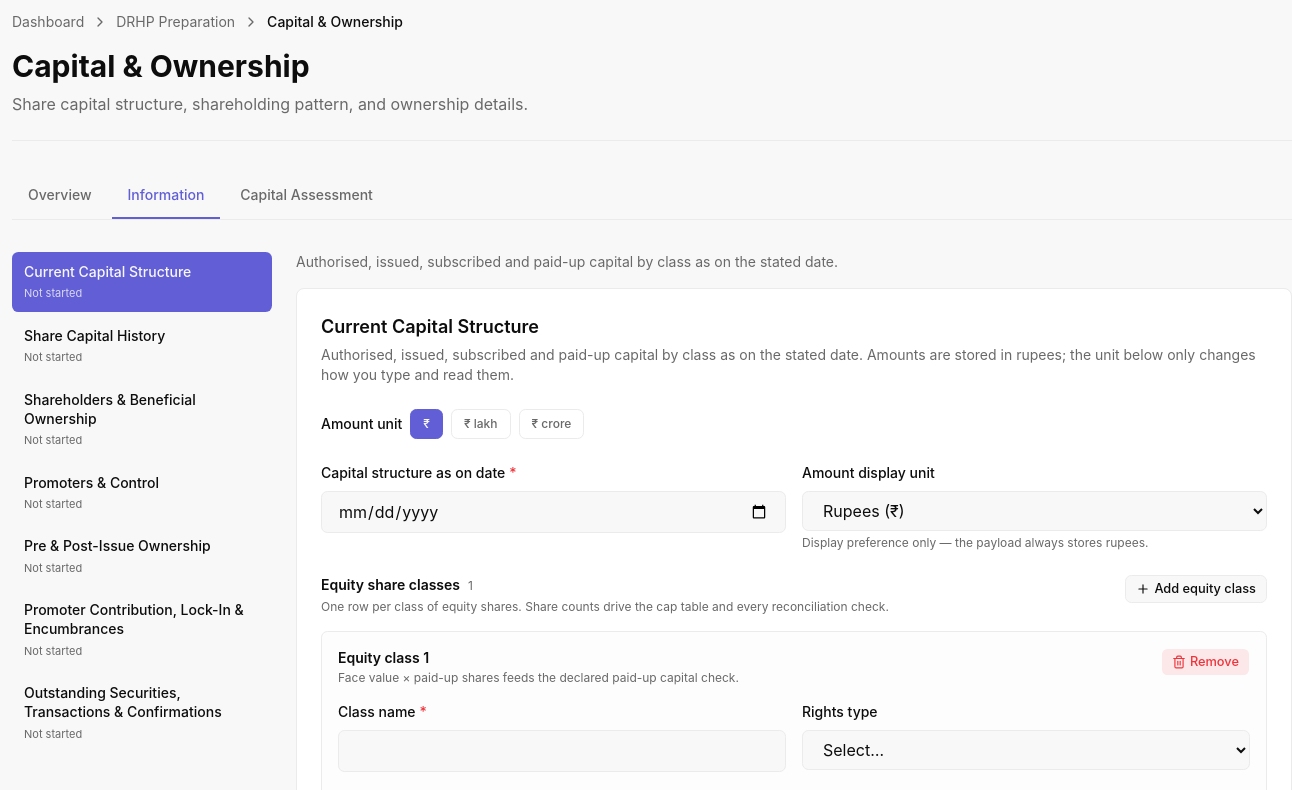
Test case: Capital & Ownership workstream UI (C2 persistence) › shows pending linked workstream for IPO when reference unavailable
Expected: the navigation bar named "information sections" is shown, [12,252,272,752]
Click the button "Pre & Post-Issue Ownership Not started" at (142, 556), box [12,526,272,586]
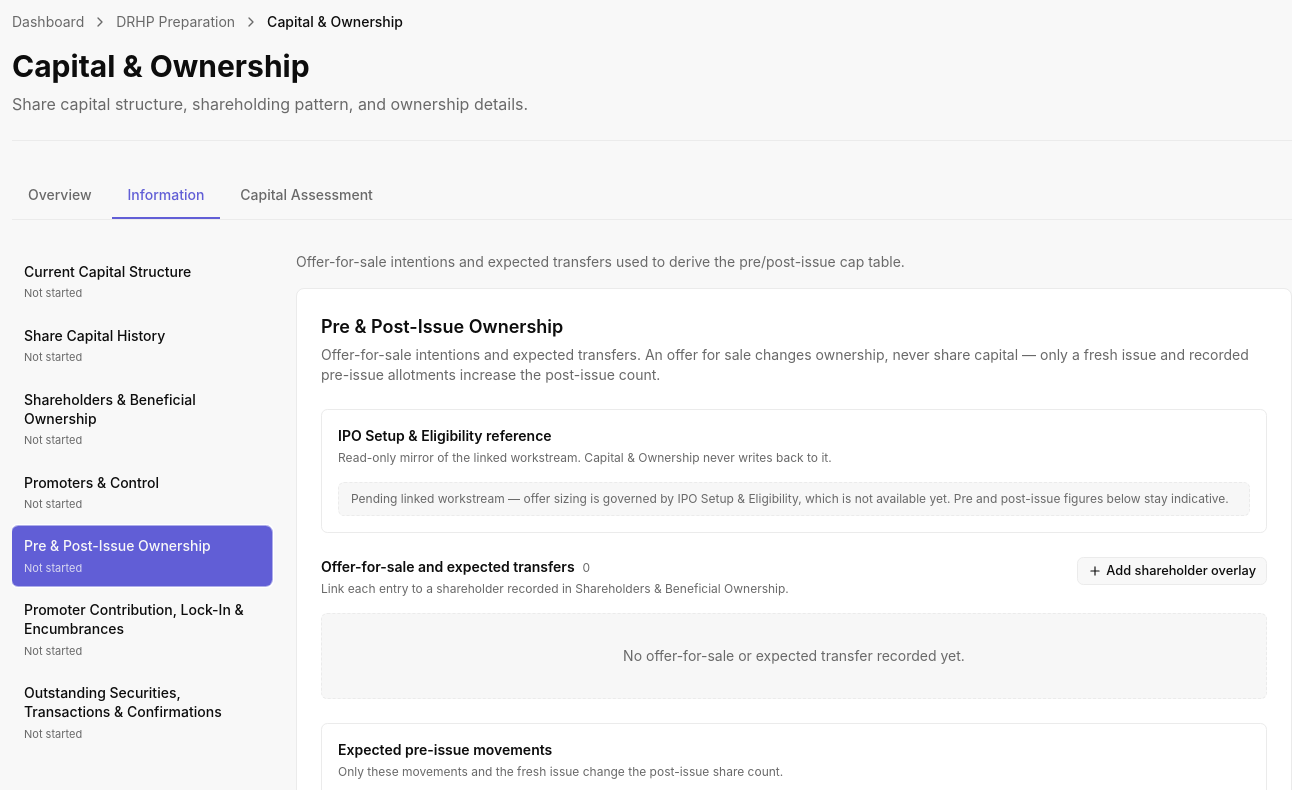
Now the text "Pending linked workstream — offer sizing is governed by IPO Setup" is shown, box [351,491,1229,506]
